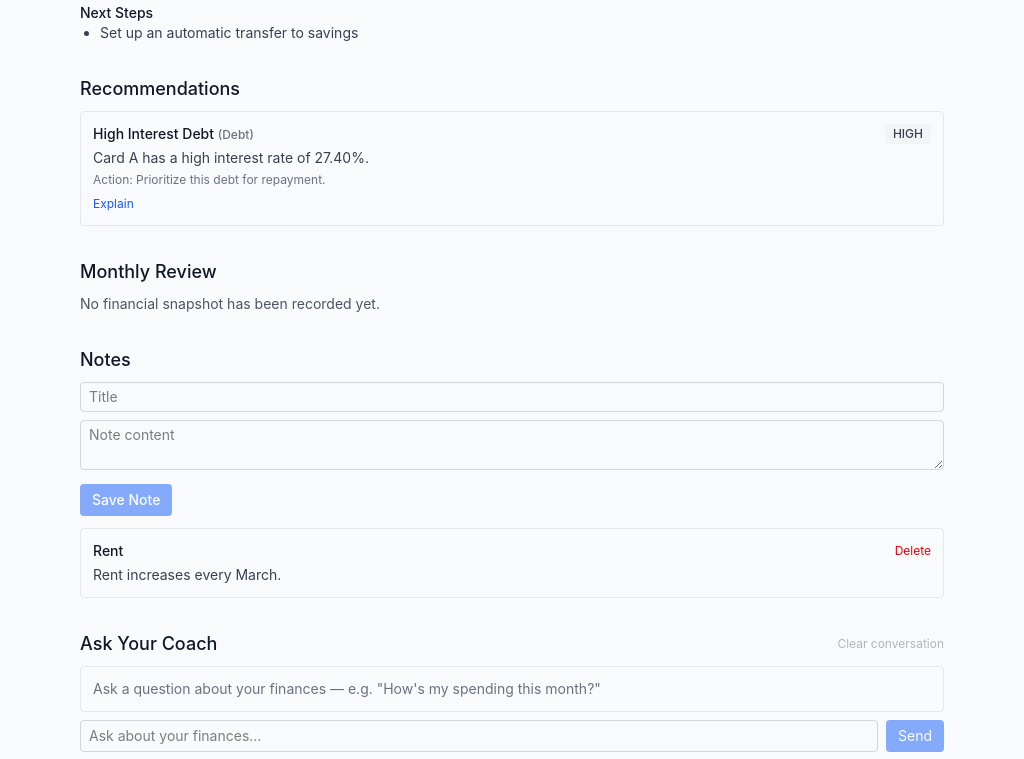
Test: CoachPage › renders saved notes and can save a new one
This screenshot has width=1024, height=759.
(page scrolled)
expect the text "Rent" is shown: met, box top-left (93, 541), bottom-right (123, 561)
expect the text "Rent increases every March." is shown: met, box top-left (93, 566), bottom-right (281, 583)
Type "New Note" into the field with placeholder "Title". click: [512, 397]
box: top-left (80, 382), bottom-right (944, 412)
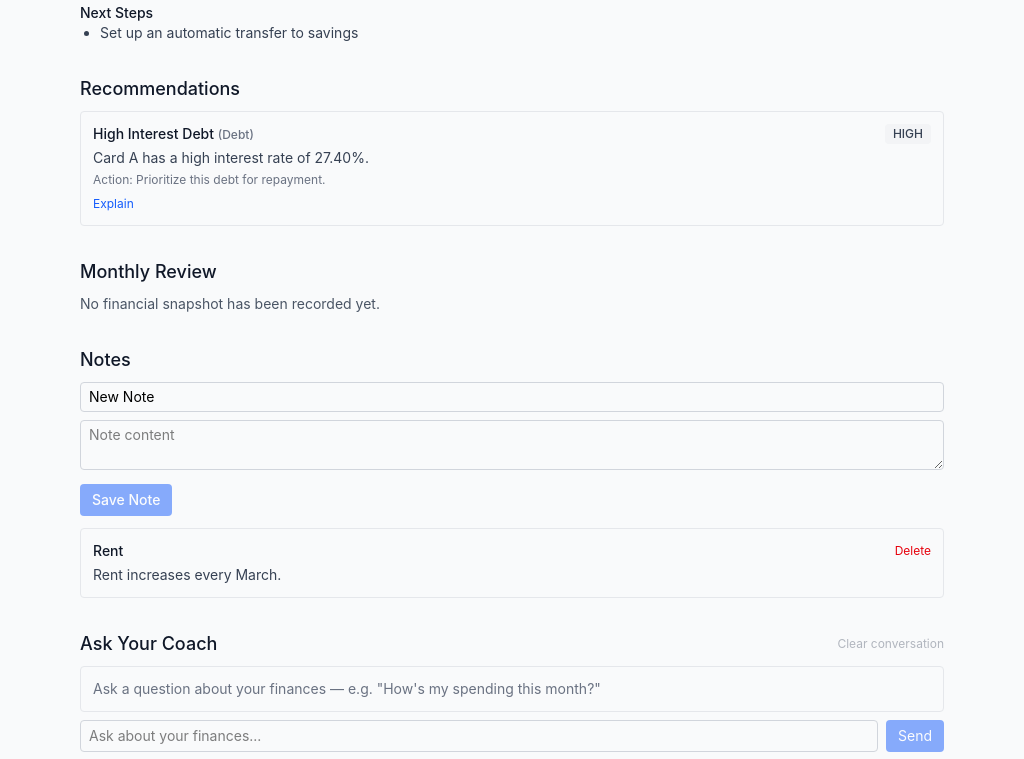
Type "New note content." into the text box with placeholder "Note content". click: [512, 445]
box: top-left (80, 420), bottom-right (944, 470)
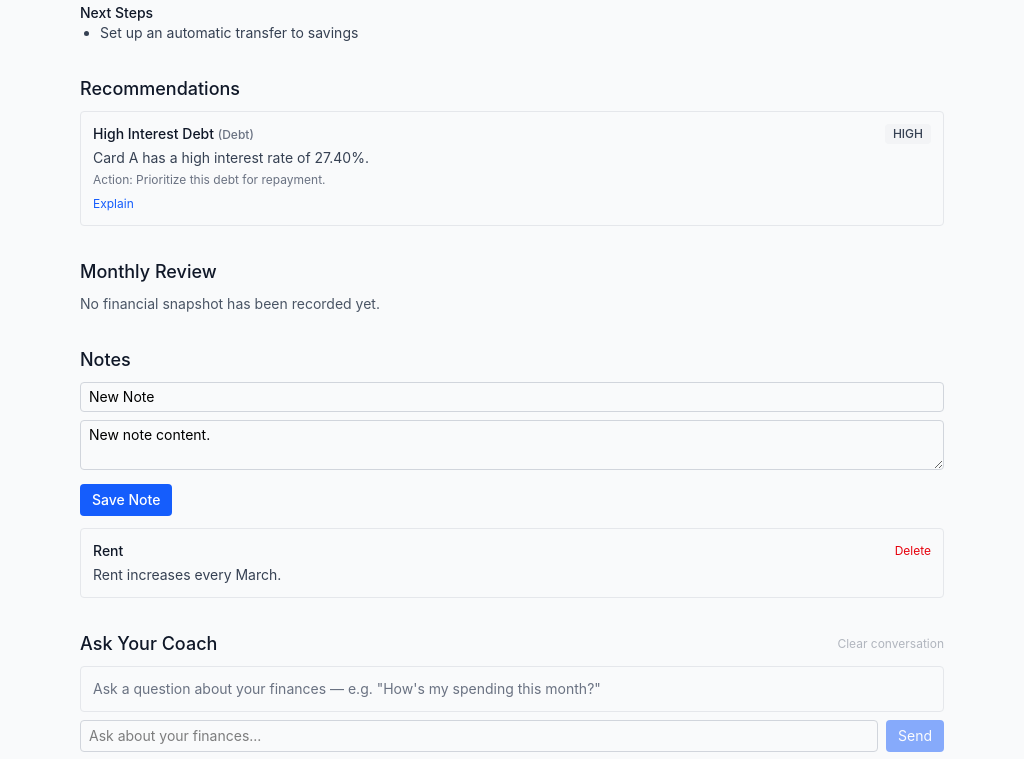
Click the button "Save Note". click: [126, 500]
box: top-left (80, 484), bottom-right (172, 516)
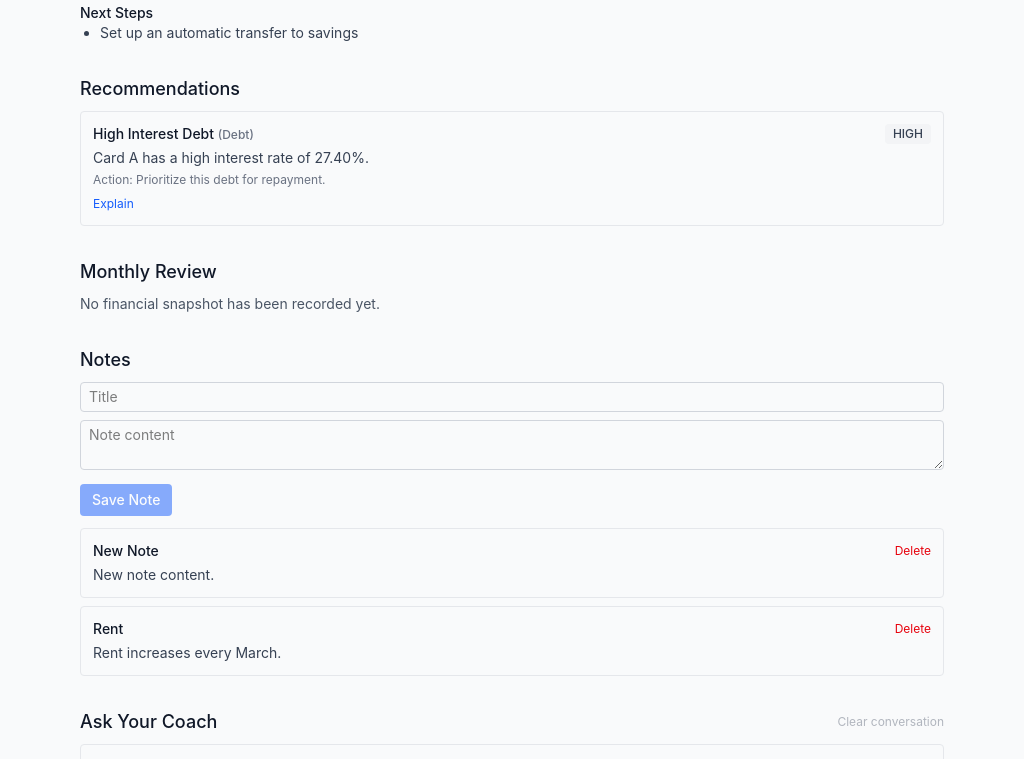
expect the text "New Note" is shown: met, box top-left (93, 541), bottom-right (159, 561)
